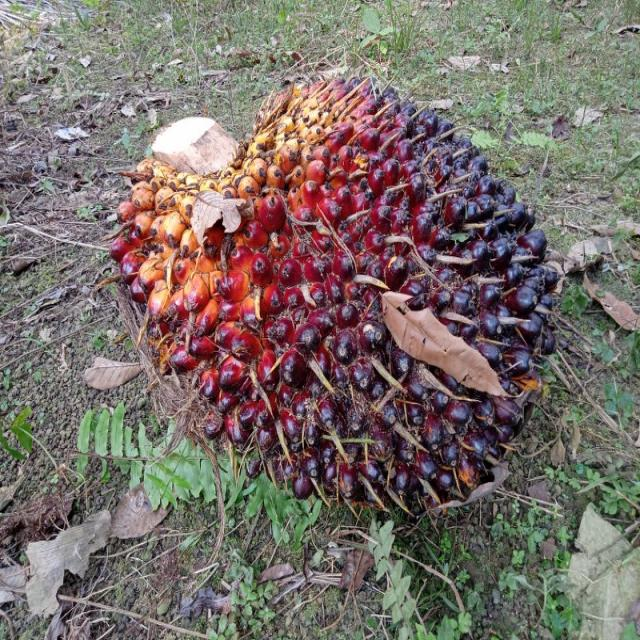fraksi 1: (87, 67, 572, 559)
